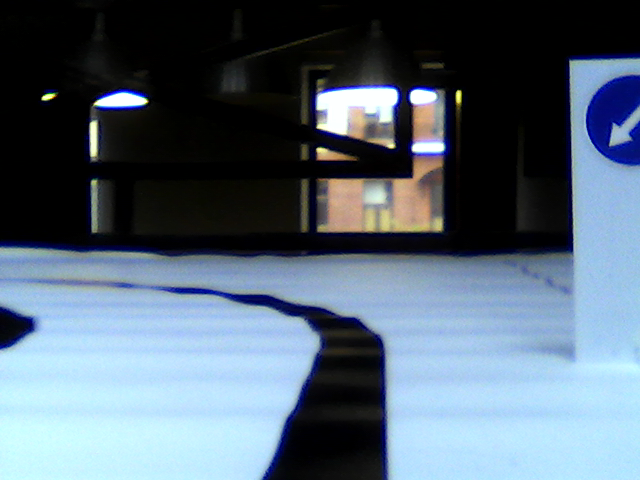prep: (585, 70, 640, 166)
